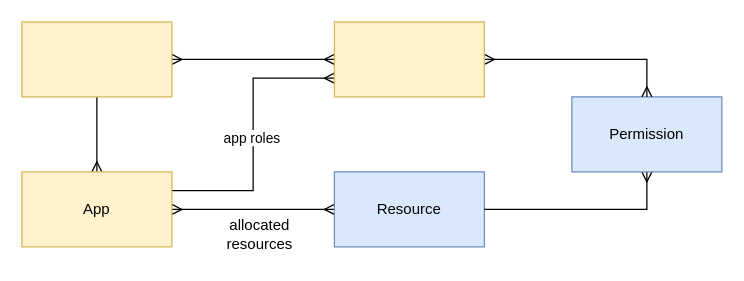
Image size: 744x281. Some labels were removed from this diagram. Here are the shapes that lost their labels. From the top down, the centre of each, then its label:
the point at 96,59: User
the point at 408,59: Role
